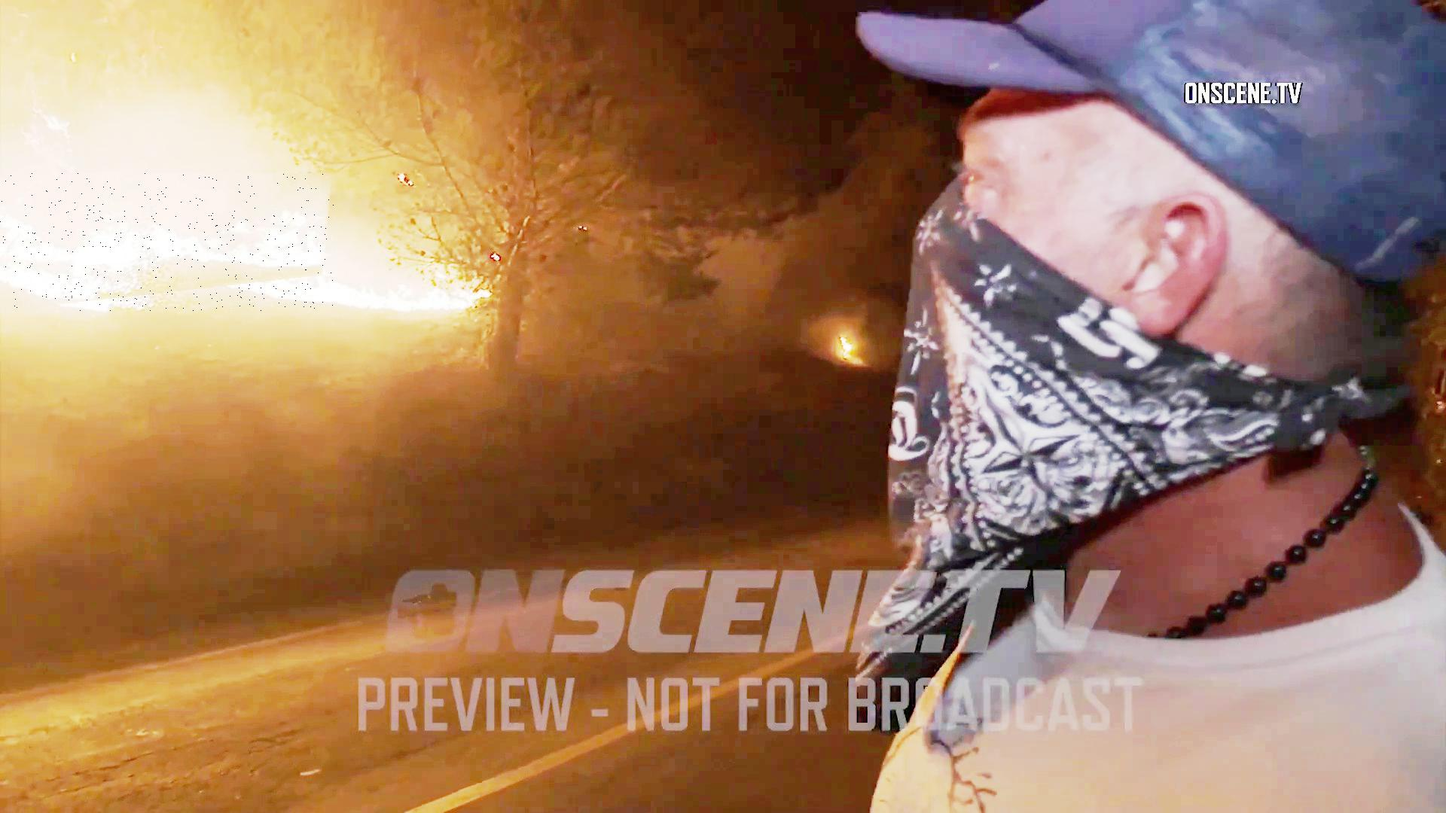fire: (0, 173, 335, 312)
